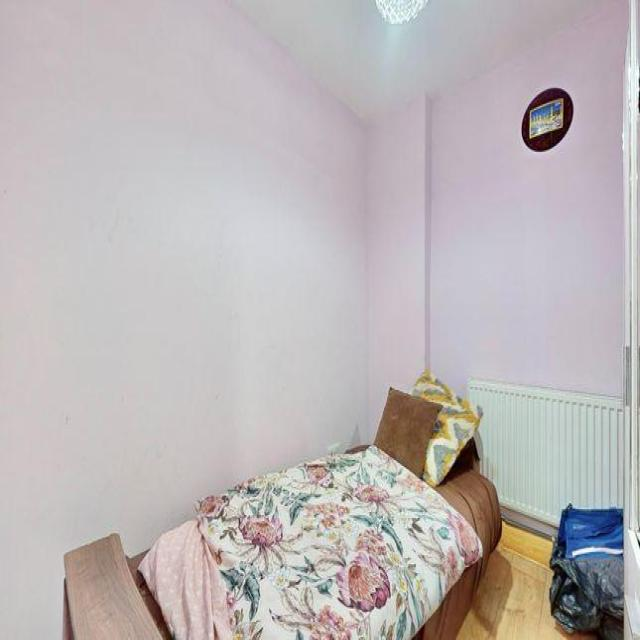Wall: (0, 2, 622, 637), (234, 0, 604, 119), (503, 2, 627, 162), (457, 521, 595, 638)
